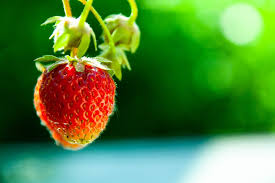ripe: (30, 54, 122, 153)
